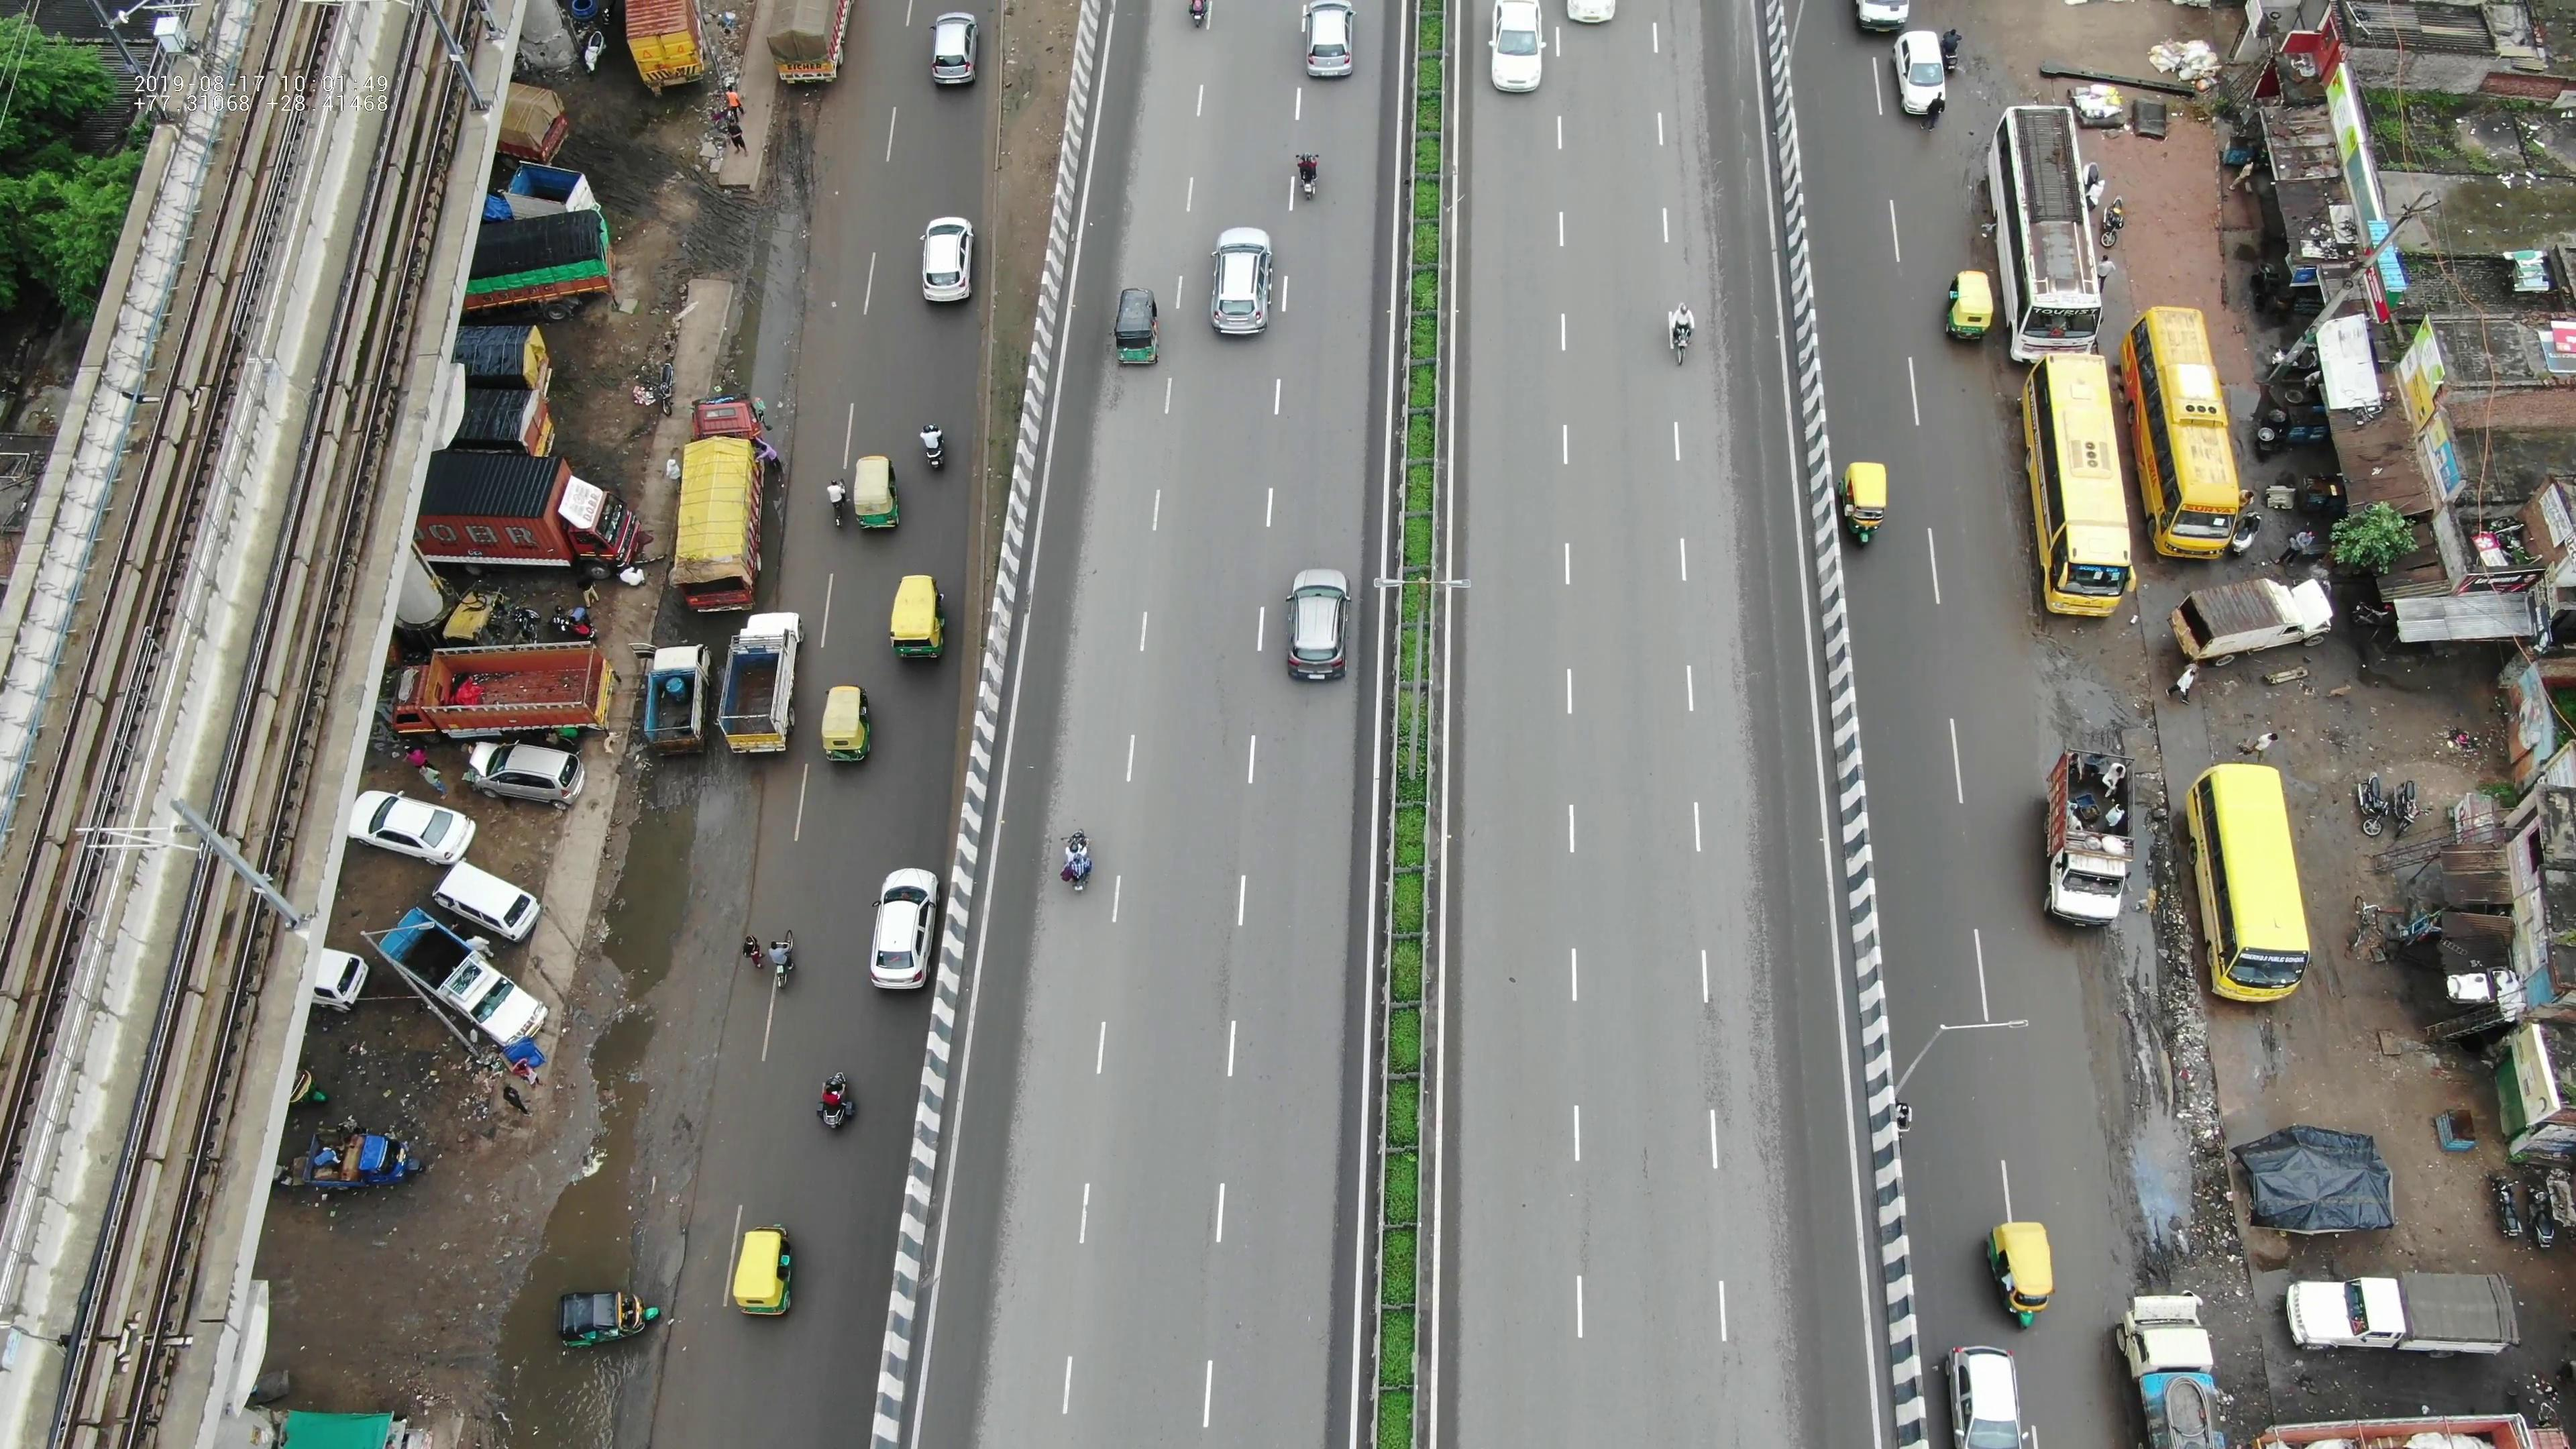Waterlogging: (2088, 948, 2231, 1254), (602, 821, 711, 1095), (747, 172, 833, 412), (545, 1122, 663, 1277)
